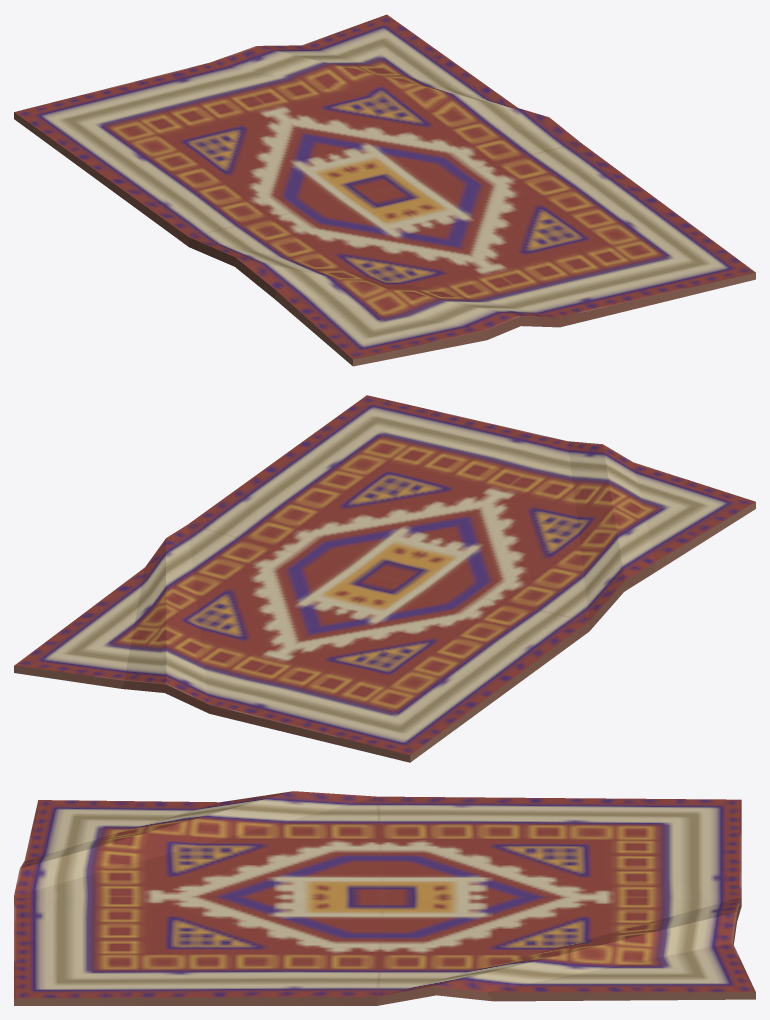
File: SM_Prop_Rug_07.fbx
The picture shows the model from 3 angles, top to bottom: view 1: azimuth 30°, elevation 25°; view 2: azimuth 150°, elevation 25°; view 3: azimuth 270°, elevation 25°; orthographic projection. The views are drawn at different scales.
Parts seen in each view (by area): view 1: SM_Prop_Rug_07; view 2: SM_Prop_Rug_07; view 3: SM_Prop_Rug_07.
Boxes of the visible parts, left/top/right/bottom form: SM_Prop_Rug_07: left=14, top=14, right=755, bottom=366; SM_Prop_Rug_07: left=14, top=395, right=755, bottom=762; SM_Prop_Rug_07: left=14, top=791, right=755, bottom=1005.
Bounding box in the file's own units: 197 × 9.08 × 310.
